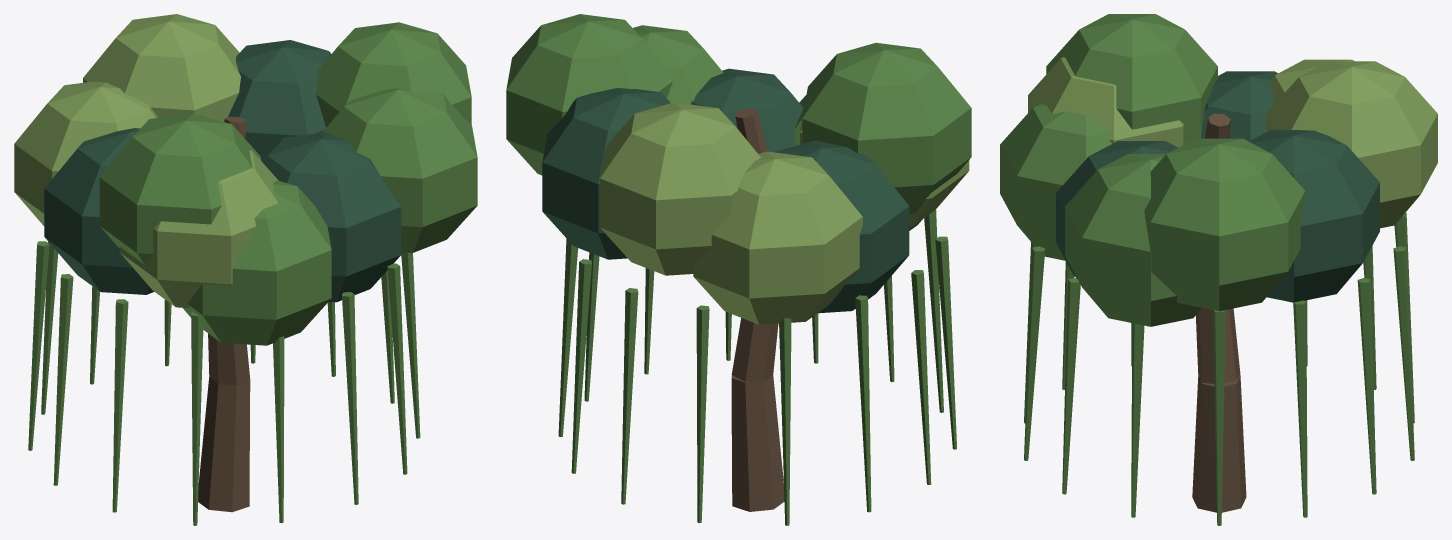
File: nature-willow.lod0.glb
3 views of the same model, side by side, from view 1: azimuth 30°, elevation 25°; view 2: azimuth 150°, elevation 25°; view 3: azimuth 270°, elevation 25° (orthographic).
Visible parts, largest first — view 1: nature-willow__body; view 2: nature-willow__body; view 3: nature-willow__body.
Part boxes in pixels (x1=…): nature-willow__body: x1=14, y1=14, x2=477, y2=525; nature-willow__body: x1=506, y1=14, x2=971, y2=525; nature-willow__body: x1=1000, y1=14, x2=1437, y2=525.
Bounding box in the file's own units: 5.24 × 5.26 × 4.73.
